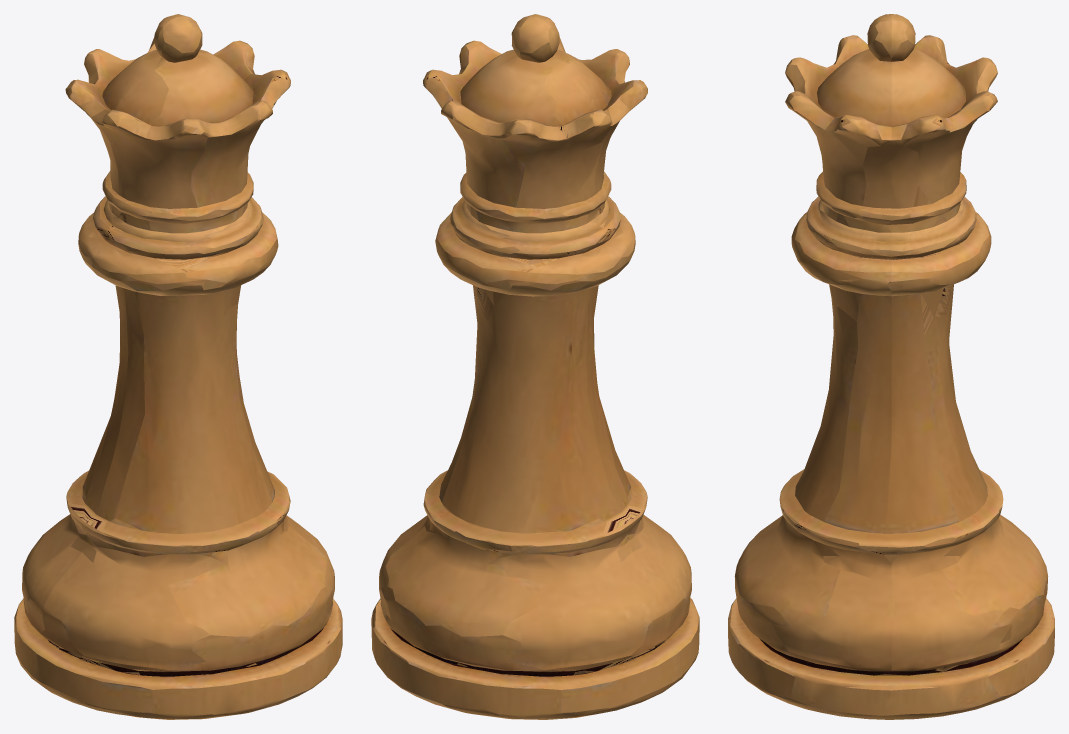
The model's file is white-queen.glb.
3 renders of one model, left to right at view 1: azimuth 30°, elevation 25°; view 2: azimuth 150°, elevation 25°; view 3: azimuth 270°, elevation 25°, orthographic.
Visible parts, largest first — view 1: world; view 2: world; view 3: world.
Part boxes in pixels (box(x1,y1,x2,y2)): world: box(14, 14, 342, 719); world: box(371, 14, 699, 719); world: box(728, 14, 1054, 719).
Bounding box in the file's own units: 0.4664 × 1 × 0.4646.
1 material, 1 textured.
